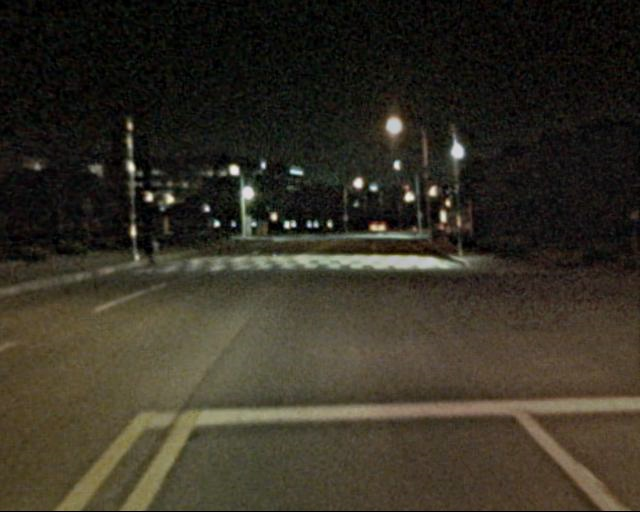person: (138, 222, 162, 274)
